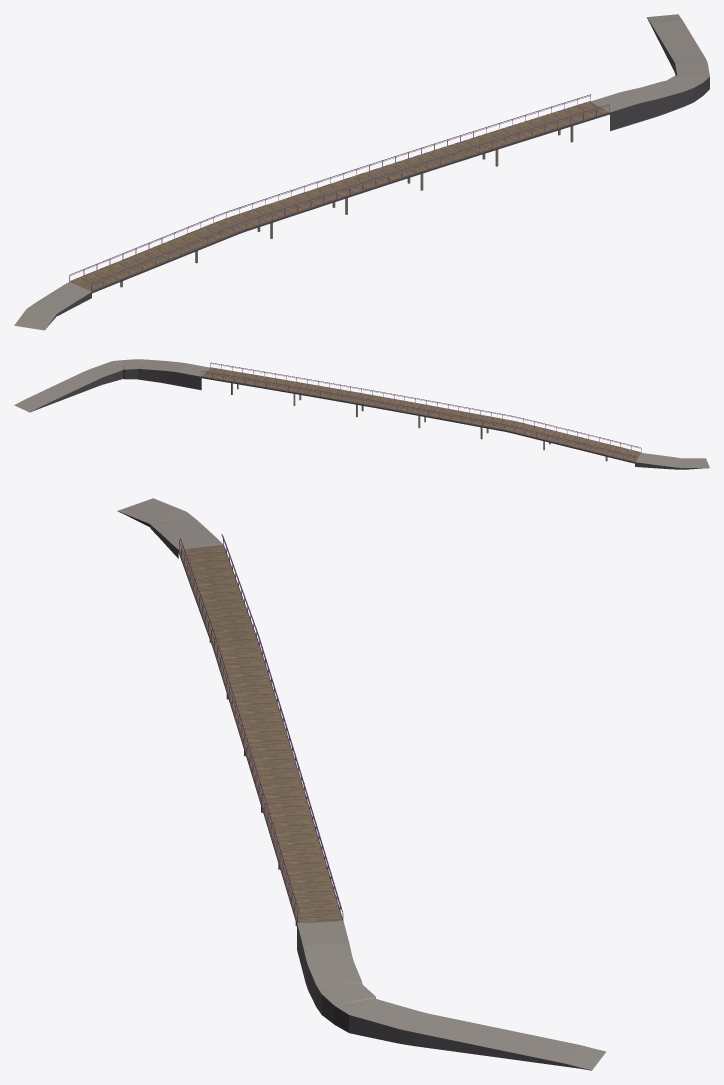
3 views of the same model, one above another, from view 1: azimuth 30°, elevation 25°; view 2: azimuth 150°, elevation 25°; view 3: azimuth 270°, elevation 25° (orthographic). The views are drawn at different scales.
Parts seen in each view (by area): view 1: Dragonfly Bridge transverse decking, Garden approaches, Muted purple painted steel, Weathered bridge edge; view 2: Dragonfly Bridge transverse decking, Garden approaches, Muted purple painted steel, Weathered bridge edge, Bridge support concrete; view 3: Dragonfly Bridge transverse decking, Garden approaches, Weathered bridge edge, Muted purple painted steel.
Boxes of the visible parts, x1,y1,x2,y2 form: Dragonfly Bridge transverse decking: [69, 101, 609, 291]; Garden approaches: [14, 14, 709, 330]; Muted purple painted steel: [69, 94, 609, 291]; Weathered bridge edge: [45, 18, 709, 329]; Dragonfly Bridge transverse decking: [202, 368, 640, 461]; Garden approaches: [14, 359, 709, 468]; Muted purple painted steel: [201, 362, 641, 461]; Weathered bridge edge: [30, 369, 708, 469]; Bridge support concrete: [231, 383, 607, 461]; Dragonfly Bridge transverse decking: [178, 545, 343, 923]; Garden approaches: [118, 498, 606, 1070]; Weathered bridge edge: [117, 511, 591, 1070]; Muted purple painted steel: [179, 534, 343, 922].
Size of the model in its own units: 130 by 4.43 by 47.08.
Materials: 6 (2 with a texture image).
